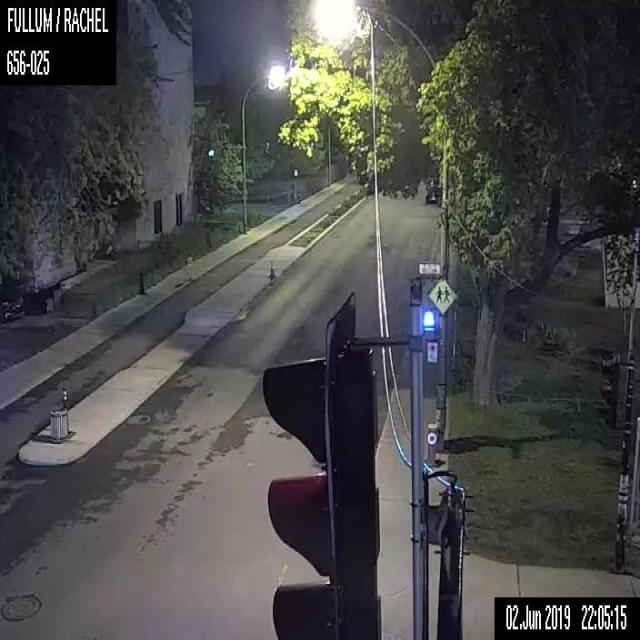construction: (268, 262, 276, 278)
vehicle: (425, 189, 440, 202)
